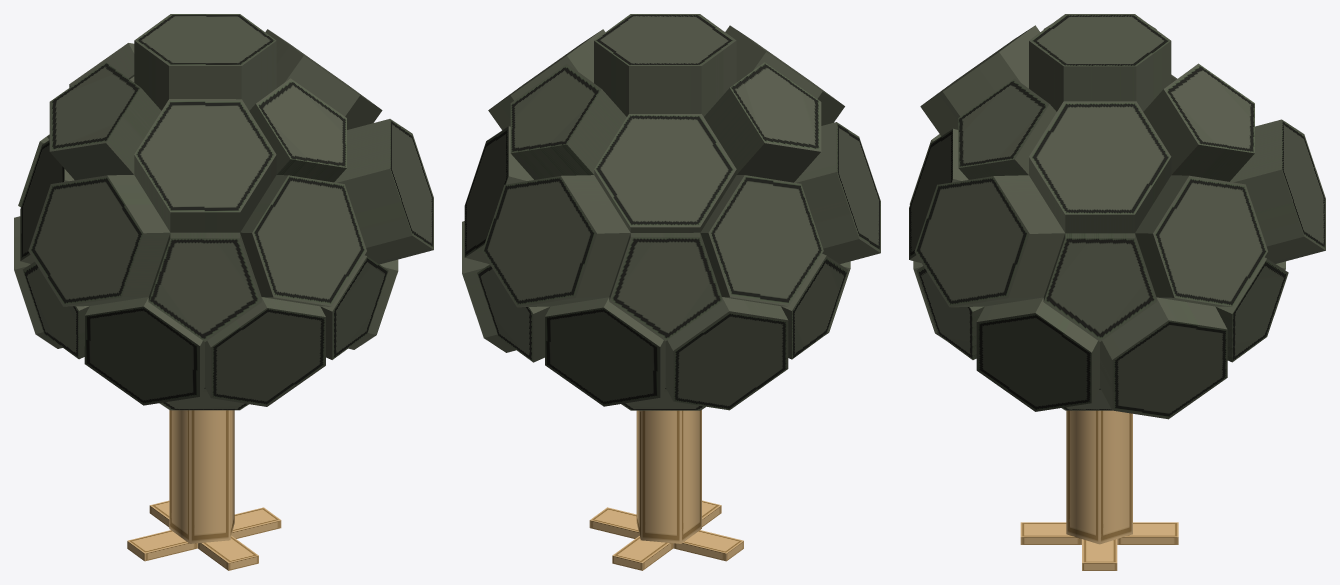
The model's file is Tree024.FBX.
3 views of the same model, side by side, from view 1: azimuth 30°, elevation 25°; view 2: azimuth 150°, elevation 25°; view 3: azimuth 270°, elevation 25° (orthographic).
Parts seen in each view (by area): view 1: tree024; view 2: tree024; view 3: tree024.
Boxes of the visible parts, box(x1,y1,x2,y2) form: tree024: box(14, 14, 433, 570); tree024: box(462, 14, 880, 570); tree024: box(909, 14, 1325, 570).
Bounding box in the file's own units: 242 × 313 × 237.
1 material, 1 textured.
